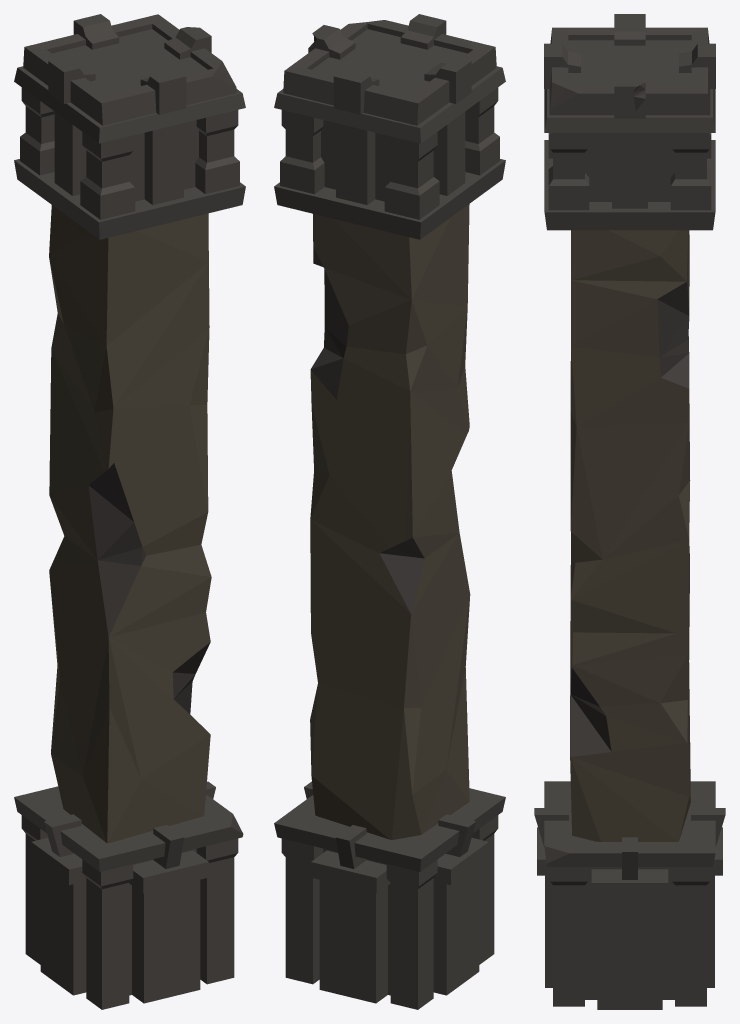
File: Pillar_1B.fbx
3 renders of one model, left to right at view 1: azimuth 30°, elevation 25°; view 2: azimuth 150°, elevation 25°; view 3: azimuth 270°, elevation 25°, orthographic.
Parts seen in each view (by area): view 1: polySurface1000; view 2: polySurface1000; view 3: polySurface1000.
Part boxes in pixels (x1,y1,x2,y2): polySurface1000: [14, 14, 245, 1009]; polySurface1000: [274, 14, 505, 1009]; polySurface1000: [534, 14, 725, 1009].
Size of the model in its own units: 2.04 by 10.86 by 2.04.
